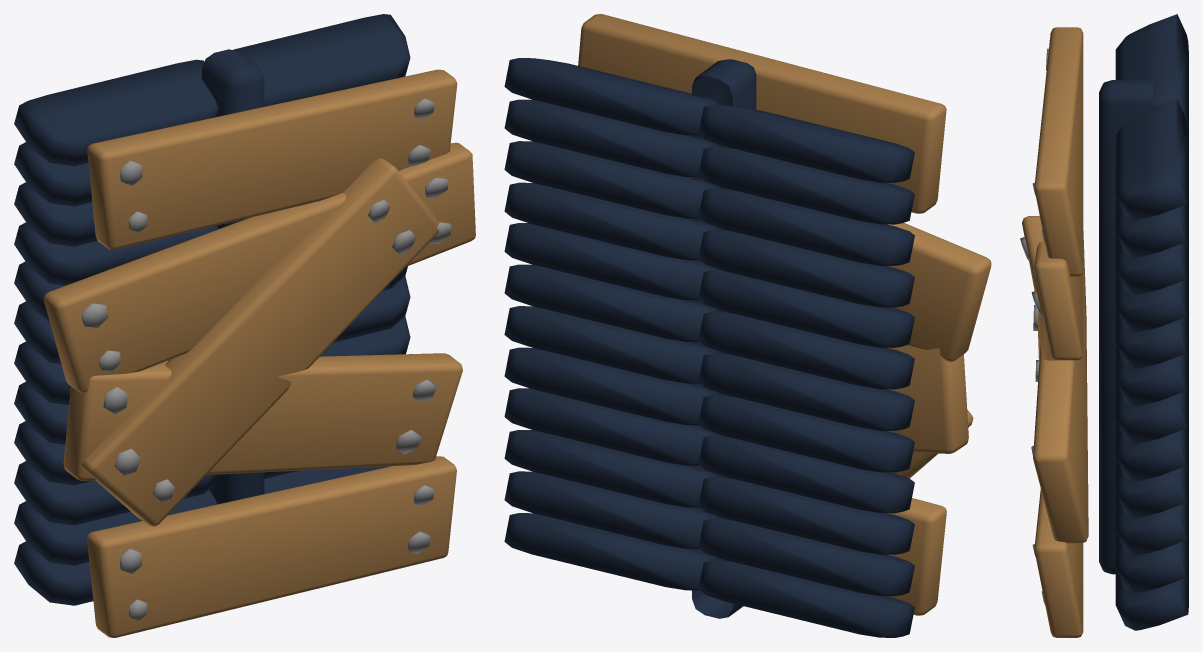
Rendered from shutter_MODIFIE.fbx.
3 views of the same model, side by side, from view 1: azimuth 30°, elevation 25°; view 2: azimuth 150°, elevation 25°; view 3: azimuth 270°, elevation 25° (orthographic). The views are drawn at different scales.
Parts seen in each view (by area): view 1: Cylinder.002, Cube.001; view 2: Cube.001, Cylinder.002; view 3: Cube.001, Cylinder.002.
Part boxes in pixels (bbox=[...]): Cylinder.002: bbox=[43, 69, 475, 637]; Cube.001: bbox=[14, 14, 410, 605]; Cube.001: bbox=[504, 58, 914, 637]; Cylinder.002: bbox=[578, 14, 991, 615]; Cube.001: bbox=[1099, 14, 1188, 630]; Cylinder.002: bbox=[1020, 27, 1088, 637].
Bounding box in the file's own units: 274 × 102 × 323.
